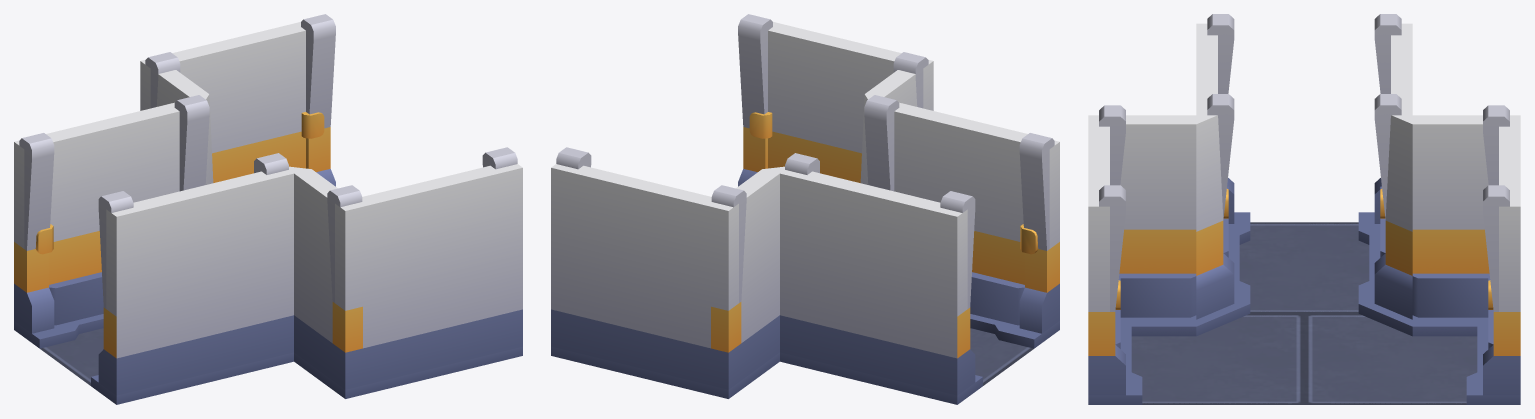
The model's file is corridor_transition.glb.
The picture shows the model from 3 angles, left to right: view 1: azimuth 30°, elevation 25°; view 2: azimuth 150°, elevation 25°; view 3: azimuth 270°, elevation 25°; orthographic projection. The views are drawn at different scales.
Visible parts, largest first — view 1: corridor-transition; view 2: corridor-transition; view 3: corridor-transition.
Part boxes in pixels (box(x1,y1,x2,y2)): corridor-transition: box(14, 14, 522, 404); corridor-transition: box(551, 14, 1059, 404); corridor-transition: box(1088, 14, 1520, 404).
Bounding box in the file's own units: 8 × 4.25 × 8.
Materials: 1 (1 with a texture image).
